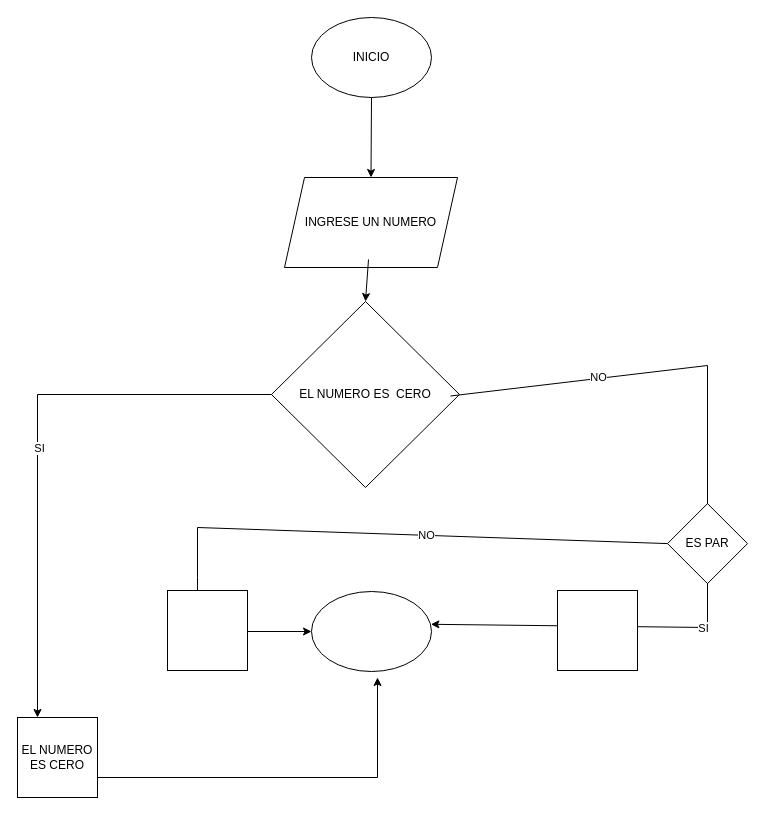
This 765x815 diagram has some shape labels left out. The shapes that lost their labels are listed below. From the top down, each one's centre as x and y in pixels, then its label:
At (x=207, y=630): "EL NUMERO ES IMPAR".
At (x=371, y=631): "FIN".
At (x=597, y=630): "EL NUMERO ES PAR".
